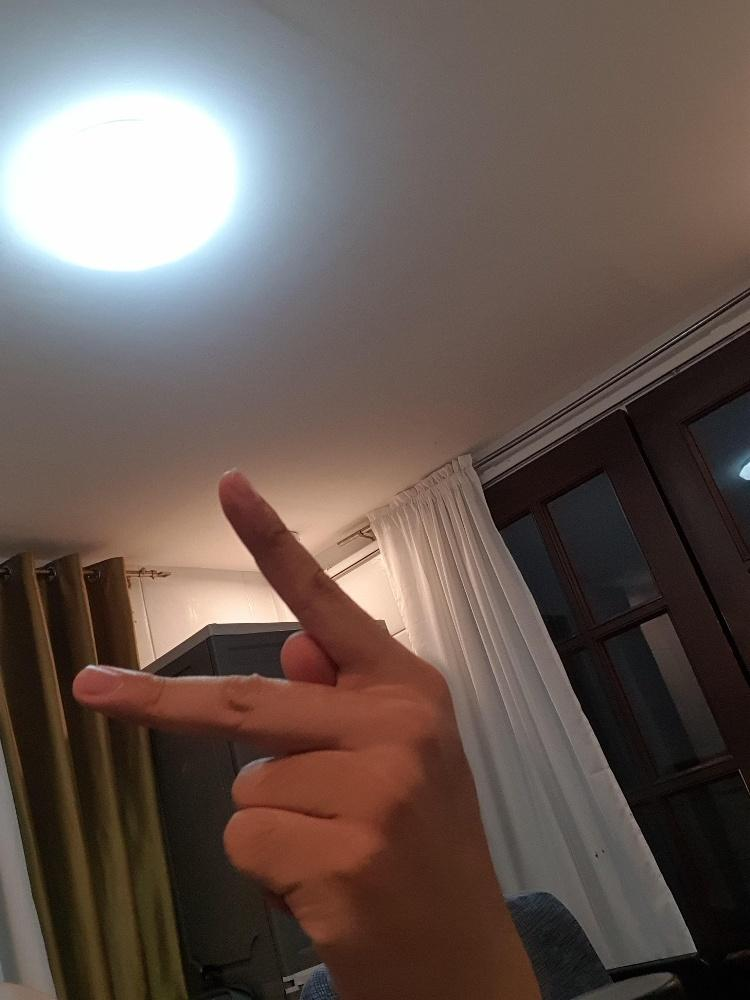k: (67, 462, 549, 999)
